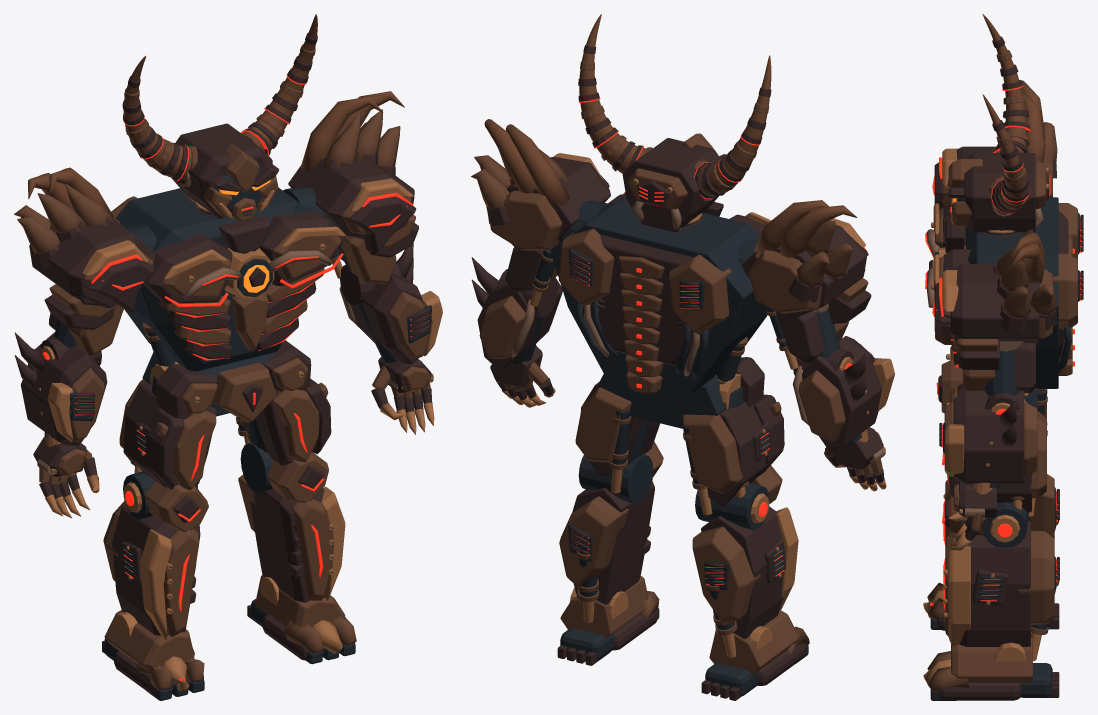
File: Lattice_Revenant.glb
3 renders of one model, left to right at view 1: azimuth 30°, elevation 25°; view 2: azimuth 150°, elevation 25°; view 3: azimuth 270°, elevation 25°, orthographic. The views are drawn at different scales.
Parts seen in each view (by area): view 1: Thoracic structural cast, R Greave carrier, L Pauldron envelope, R Pauldron envelope, Helmet casting, L Vambrace base, L Greave carrier, R Greave face, R Vambrace base, L Ankle boot shield, L Greave face, Pelvis keel (+59 smaller); view 2: Thoracic structural cast, Dorsal carapace, Helmet casting, R Greave carrier, L Greave carrier, L Calf carapace, L Rear thigh plating, Hip transmission, L Vambrace base, R Calf carapace, R Pauldron rear shell, L exhaust shell (+43 smaller); view 3: R Greave carrier, R Vambrace base, R Pauldron envelope, Thoracic structural cast, Helmet casting, R Ankle boot shield, R Calf carapace, R Greave cutter, R exhaust shell, R foot sole, L continuous swept horn, R Vambrace outer rail (+46 smaller).
Boxes of the visible parts, bbox=[...] form: Thoracic structural cast: bbox=[115, 187, 310, 371]; R Greave carrier: bbox=[250, 488, 326, 602]; L Pauldron envelope: bbox=[29, 220, 155, 308]; R Pauldron envelope: bbox=[288, 158, 414, 239]; Helmet casting: bbox=[171, 123, 272, 218]; L Vambrace base: bbox=[20, 332, 107, 446]; L Greave carrier: bbox=[112, 504, 200, 635]; R Greave face: bbox=[292, 499, 333, 600]; R Vambrace base: bbox=[350, 273, 422, 364]; L Ankle boot shield: bbox=[104, 610, 194, 673]; L Greave face: bbox=[163, 529, 199, 636]; Pelvis keel: bbox=[212, 362, 275, 422]; Thoracic structural cast: bbox=[550, 195, 767, 395]; Dorsal carapace: bbox=[590, 234, 701, 365]; Helmet casting: bbox=[622, 138, 720, 232]; R Greave carrier: bbox=[572, 482, 654, 604]; L Greave carrier: bbox=[701, 506, 785, 638]; L Calf carapace: bbox=[692, 526, 760, 623]; L Rear thigh plating: bbox=[683, 414, 749, 493]; Hip transmission: bbox=[598, 374, 726, 428]; L Vambrace base: bbox=[802, 336, 881, 451]; R Calf carapace: bbox=[559, 496, 628, 587]; R Pauldron rear shell: bbox=[490, 190, 562, 250]; L exhaust shell: bbox=[669, 254, 731, 334]; R Greave carrier: bbox=[956, 521, 1030, 646]; R Vambrace base: bbox=[953, 390, 1024, 485]; R Pauldron envelope: bbox=[950, 264, 1039, 343]; Thoracic structural cast: bbox=[965, 197, 1058, 388]; Helmet casting: bbox=[964, 153, 1035, 232]; R Ankle boot shield: bbox=[951, 637, 1032, 683]; R Calf carapace: bbox=[1018, 531, 1054, 625]; R Greave cutter: bbox=[948, 546, 970, 645]; R exhaust shell: bbox=[1053, 253, 1077, 329]; R foot sole: bbox=[938, 682, 1021, 700]; L continuous swept horn: bbox=[982, 14, 1026, 152]; R Vambrace outer rail: bbox=[944, 424, 964, 476].
Bounding box in the file's own units: 4.63 × 6.92 × 1.67.
